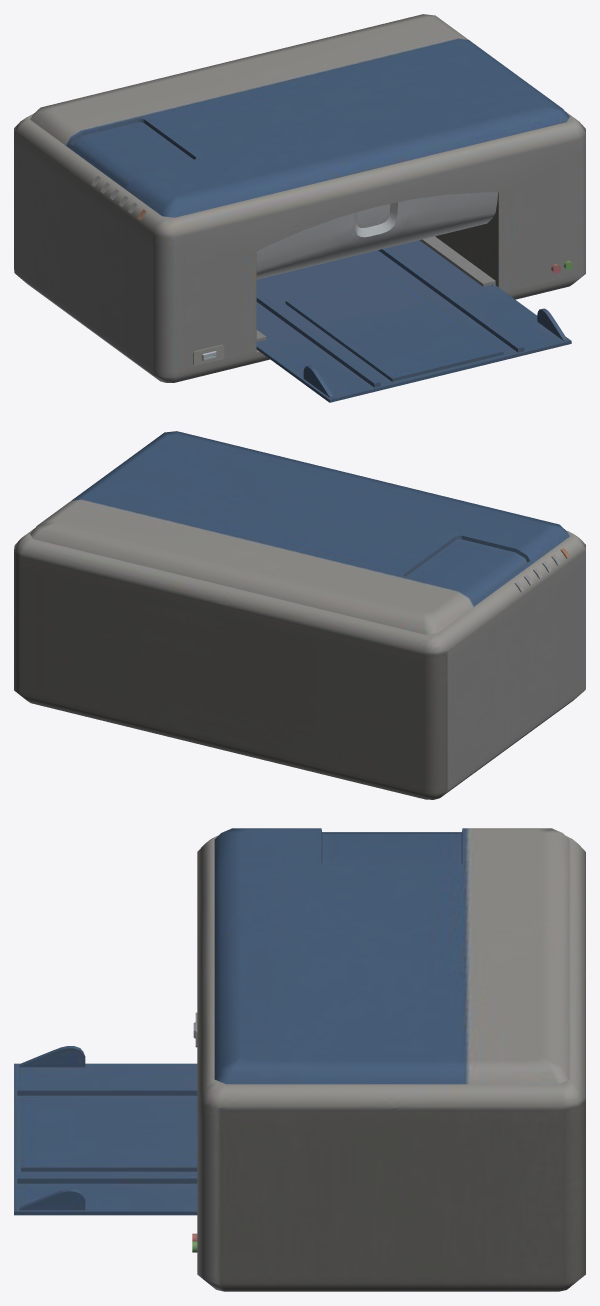
Rendered from prop_printer.glb.
The picture shows the model from 3 angles, top to bottom: view 1: azimuth 30°, elevation 25°; view 2: azimuth 150°, elevation 25°; view 3: azimuth 270°, elevation 25°; orthographic projection. The views are drawn at different scales.
Parts seen in each view (by area): view 1: Sm_SmallPrinterT_Printer_0; view 2: Sm_SmallPrinterT_Printer_0; view 3: Sm_SmallPrinterT_Printer_0.
Part boxes in pixels (box(x1,y1,x2,y2)): Sm_SmallPrinterT_Printer_0: box(14, 14, 585, 402); Sm_SmallPrinterT_Printer_0: box(14, 431, 585, 799); Sm_SmallPrinterT_Printer_0: box(14, 828, 585, 1291).
Bounding box in the file's own units: 0.3895 × 0.1509 × 0.355.
Materials: 1 (1 with a texture image).
